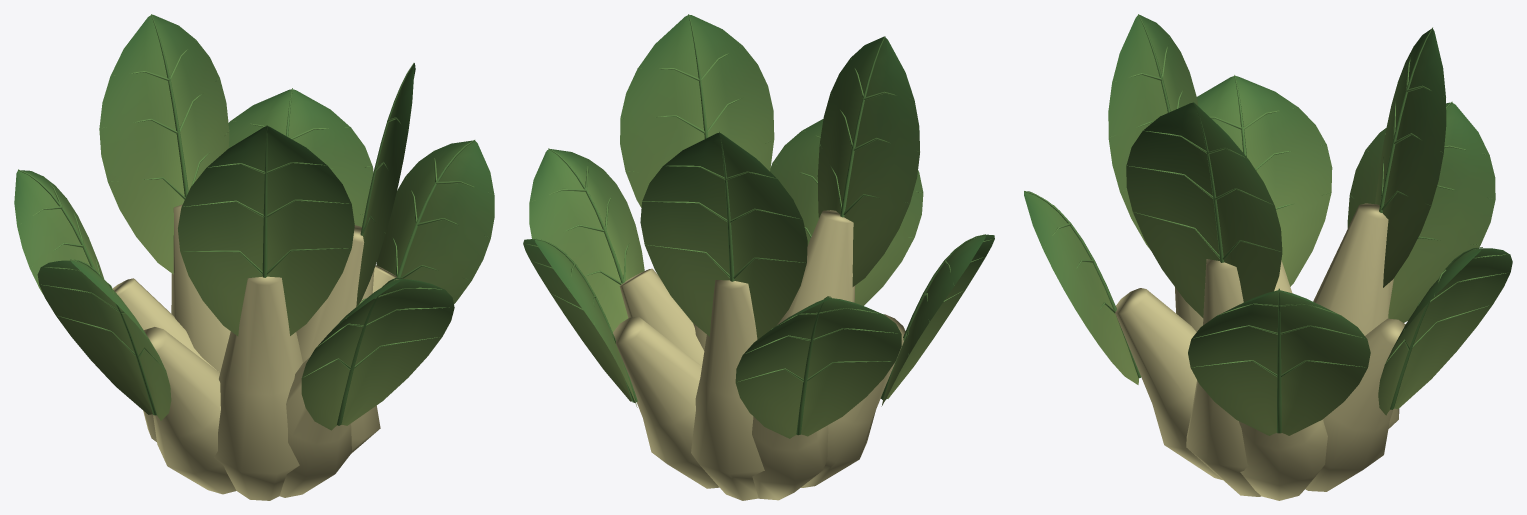
File: bok_choy.glb
3 views of the same model, side by side, from view 1: azimuth 30°, elevation 25°; view 2: azimuth 150°, elevation 25°; view 3: azimuth 270°, elevation 25° (orthographic). The views are drawn at different scales.
Visible parts, largest first — view 1: Plant; view 2: Plant; view 3: Plant.
Boxes of the visible parts, x1,y1,x2,y2 form: Plant: (14,14,494,500); Plant: (523,14,994,500); Plant: (1024,14,1512,500).
Bounding box in the file's own units: 0.3631 × 0.3355 × 0.348.
